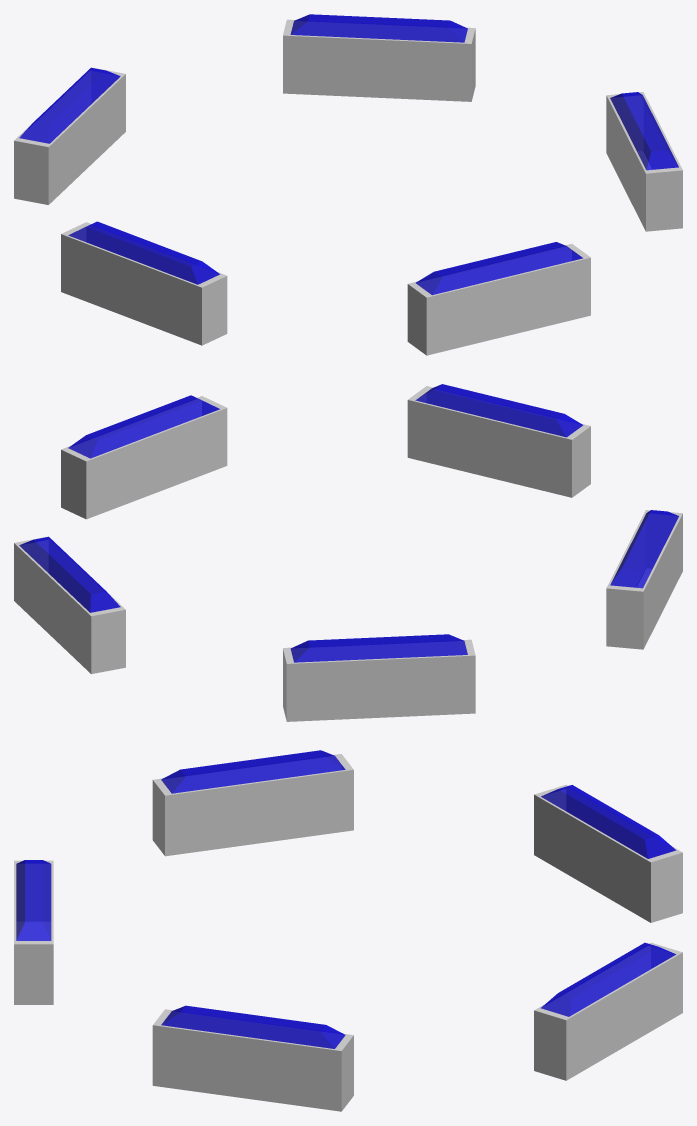
The model's file is PieceShield.fbx.
The picture shows the model from 3 angles, top to bottom: view 1: azimuth 30°, elevation 25°; view 2: azimuth 150°, elevation 25°; view 3: azimuth 270°, elevation 25°; orthographic projection. The views are drawn at different scales.
Parts seen in each view (by area): view 1: TypePiece5, TypePiece2, TypePiece3, TypePiece4, TypePiece1; view 2: TypePiece4, TypePiece2, TypePiece1, TypePiece5, TypePiece3; view 3: TypePiece1, TypePiece3, TypePiece4, TypePiece5, TypePiece2.
Part boxes in pixels (x1,y1,x2,y2): TypePiece5: [283, 14, 475, 101]; TypePiece2: [407, 242, 590, 355]; TypePiece3: [61, 221, 227, 345]; TypePiece4: [14, 67, 125, 204]; TypePiece1: [606, 92, 682, 231]; TypePiece4: [283, 634, 475, 721]; TypePiece2: [407, 384, 590, 497]; TypePiece1: [61, 395, 227, 519]; TypePiece5: [14, 536, 125, 674]; TypePiece3: [606, 510, 682, 649]; TypePiece1: [152, 1005, 353, 1111]; TypePiece3: [152, 750, 353, 856]; TypePiece4: [534, 784, 682, 922]; TypePiece5: [534, 942, 682, 1080]; TypePiece2: [14, 860, 53, 1004].
Size of the model in its own units: 1.77 by 1.68 by 0.2.
